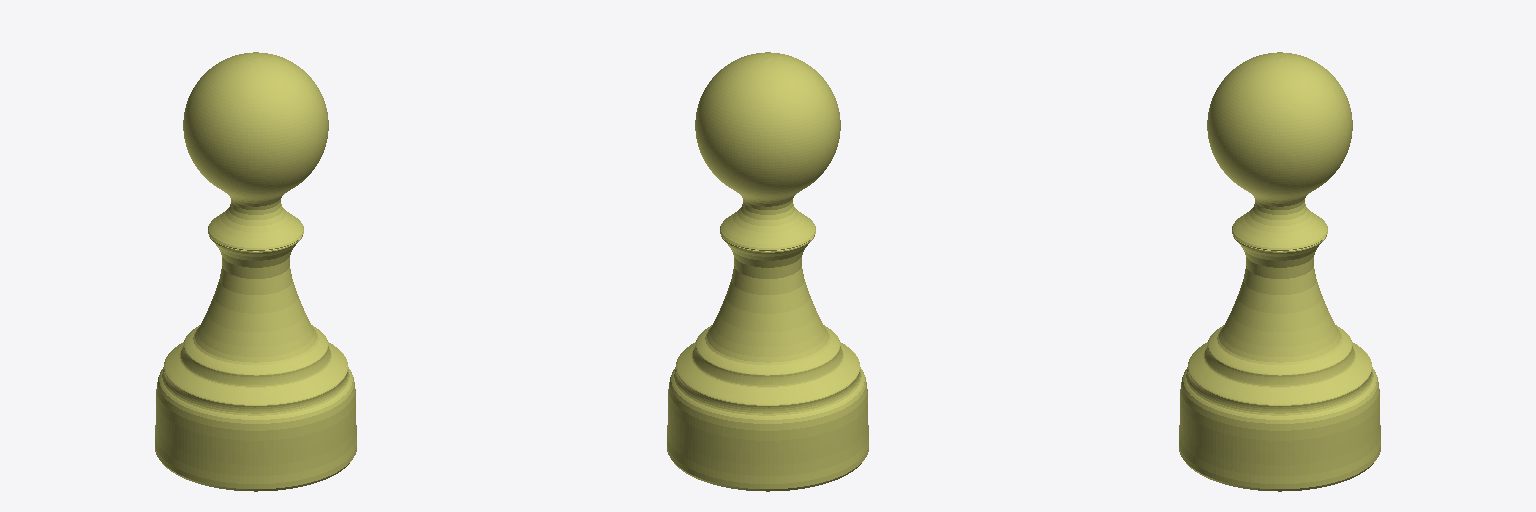
The model's file is chess.obj.
3 renders of one model, left to right at view 1: azimuth 30°, elevation 25°; view 2: azimuth 150°, elevation 25°; view 3: azimuth 270°, elevation 25°, orthographic.
Visible parts, largest first — view 1: Sphere; view 2: Sphere; view 3: Sphere.
Boxes of the visible parts, x1=… form: Sphere: x1=155, y1=52, x2=356, y2=491; Sphere: x1=667, y1=52, x2=868, y2=491; Sphere: x1=1179, y1=52, x2=1380, y2=491.
Bounding box in the file's own units: 181 × 388 × 181.